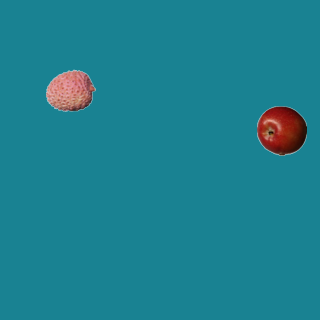Apple Braeburn: (256, 105, 306, 155)
Lychee: (45, 65, 95, 115)
